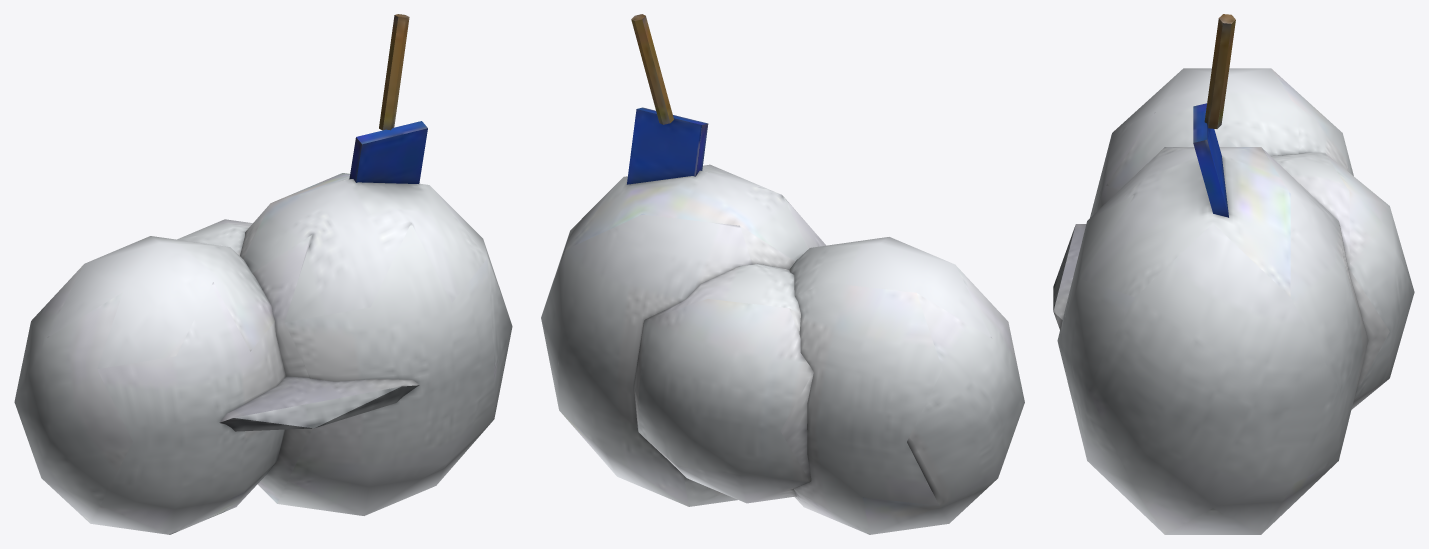
Rendered from monton_nieve.glb.
3 views of the same model, side by side, from view 1: azimuth 30°, elevation 25°; view 2: azimuth 150°, elevation 25°; view 3: azimuth 270°, elevation 25° (orthographic). The views are drawn at different scales.
Parts seen in each view (by area): view 1: monton_nieve; view 2: monton_nieve; view 3: monton_nieve.
Boxes of the visible parts, x1,y1,x2,y2 form: monton_nieve: [14, 14, 512, 534]; monton_nieve: [541, 14, 1024, 534]; monton_nieve: [1053, 14, 1414, 534].
Size of the model in its own units: 2.05 by 2.08 by 1.25.
Materials: 1 (1 with a texture image).
